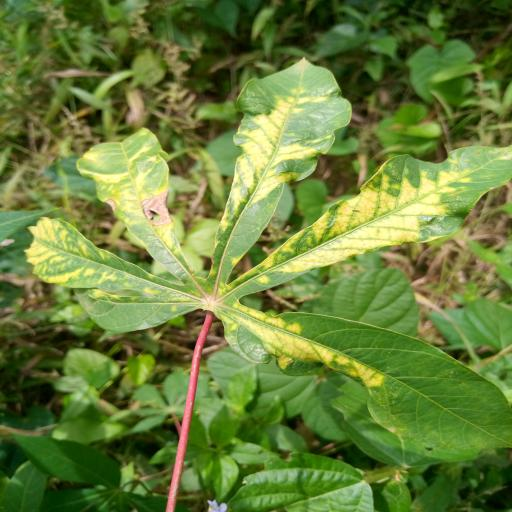Cassava_Mosaic: (24, 59, 512, 459)
